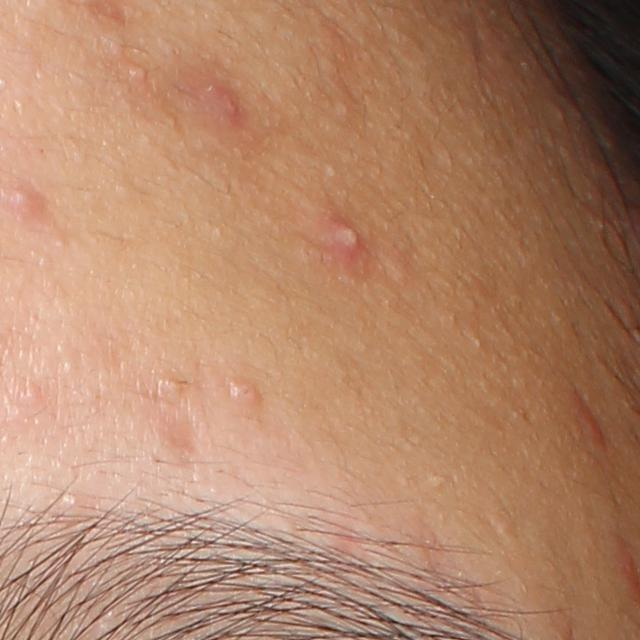comedo: (154, 368, 187, 395), (59, 490, 83, 513), (26, 383, 43, 404), (126, 65, 148, 81)
papule: (4, 182, 50, 220), (228, 377, 262, 407), (582, 408, 604, 448)
